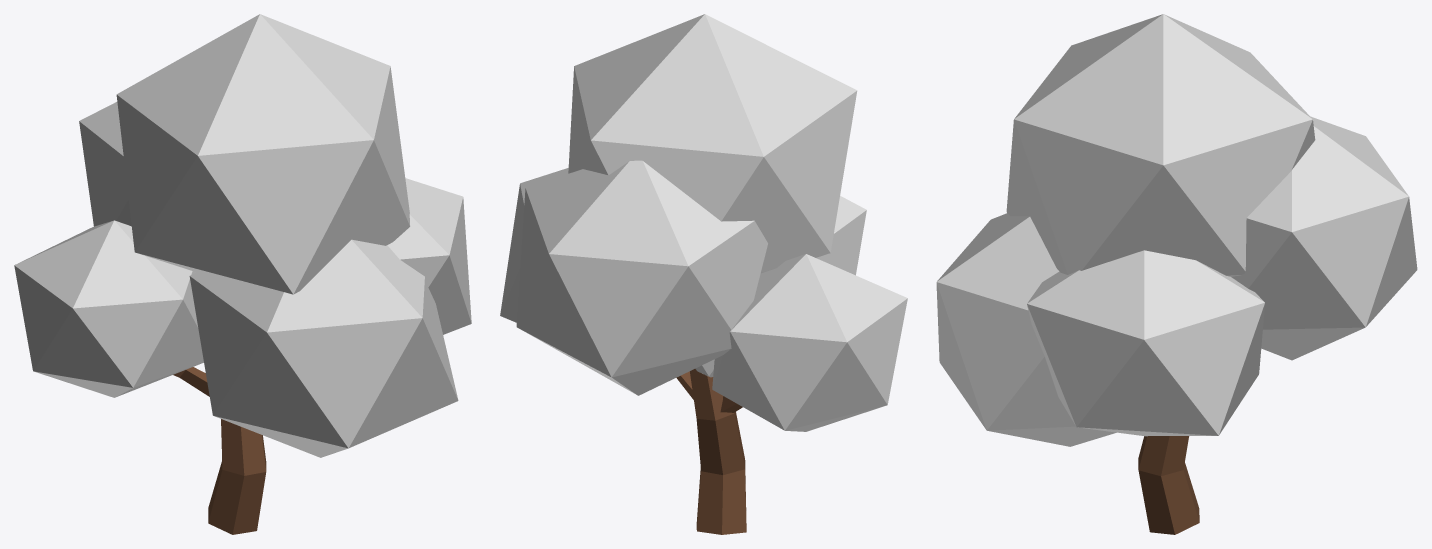
The model's file is tree_oak_2.glb.
The picture shows the model from 3 angles, left to right: view 1: azimuth 30°, elevation 25°; view 2: azimuth 150°, elevation 25°; view 3: azimuth 270°, elevation 25°; orthographic projection. The views are drawn at different scales.
Parts seen in each view (by area): view 1: tree_oak_2; view 2: tree_oak_2; view 3: tree_oak_2.
Boxes of the visible parts, bbox=[...] form: tree_oak_2: bbox=[14, 14, 471, 534]; tree_oak_2: bbox=[500, 14, 907, 534]; tree_oak_2: bbox=[936, 14, 1417, 534].
Size of the model in its own units: 4.17 by 5.1 by 4.25.
